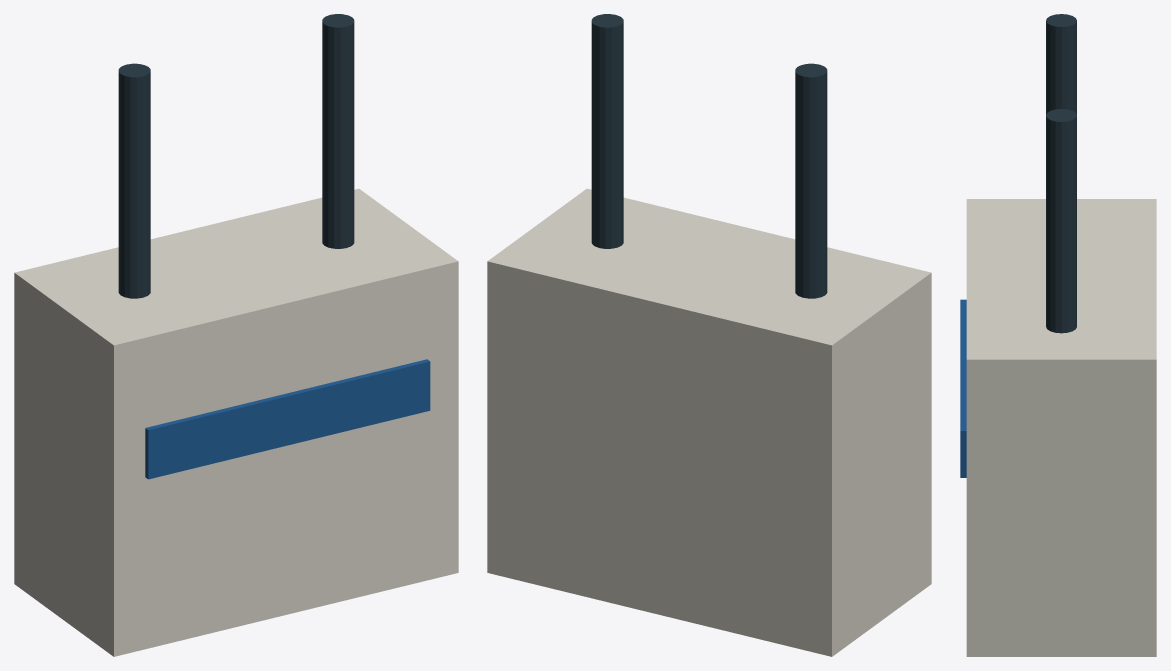
The model's file is scendance-plan-wifi.glb.
3 renders of one model, left to right at view 1: azimuth 30°, elevation 25°; view 2: azimuth 150°, elevation 25°; view 3: azimuth 270°, elevation 25°, orthographic. The views are drawn at different scales.
Bounding box in the file's own units: 0.44 × 0.65 × 0.227.
